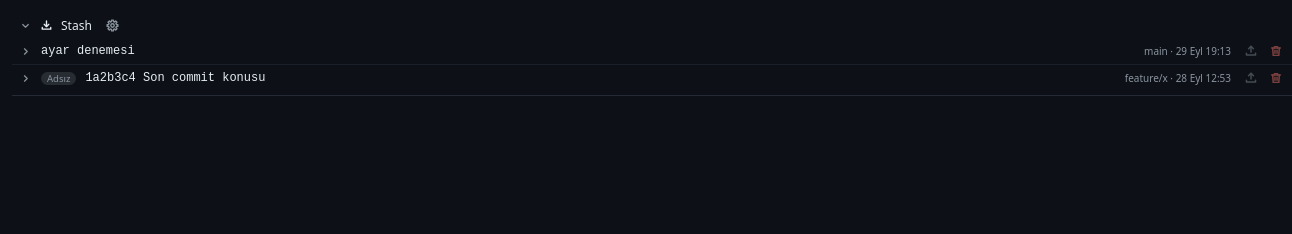
Test: içerik › kesik liste 've N dosya daha' diyor
Click the button with class "git-row" that starts with "ayar denemesi".
click(88, 51)  # box [12,38,1239,64]
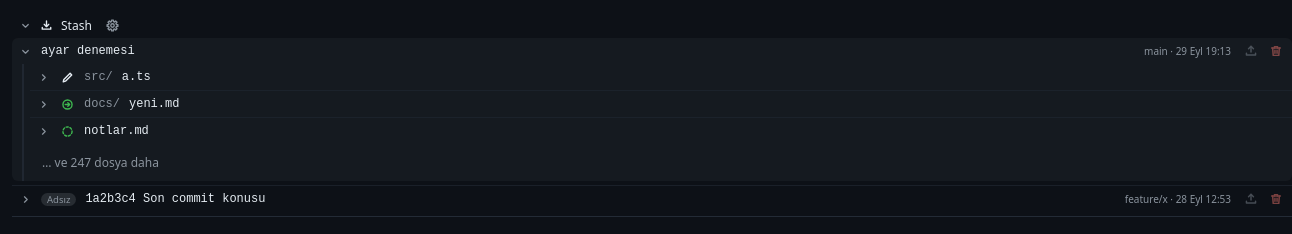
Check: the element with class "stash-files" shows "… ve 247 dosya daha", box [42,154,159,171]
